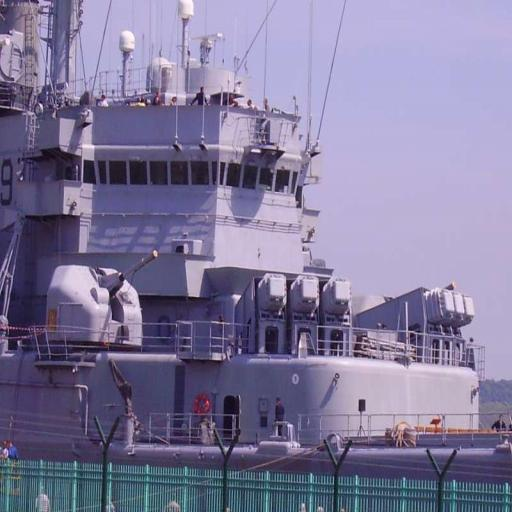Portanaves: (2, 11, 493, 440)
